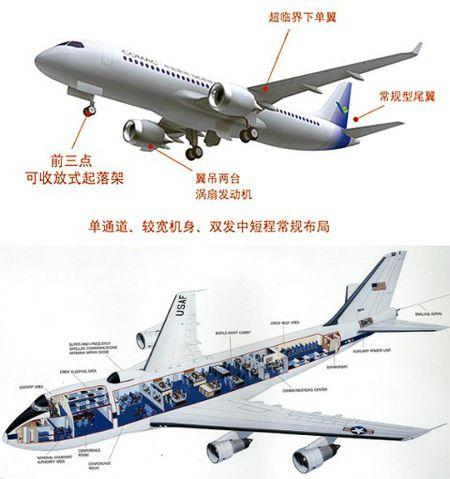airplane: (12, 251, 432, 456), (36, 19, 427, 163)
